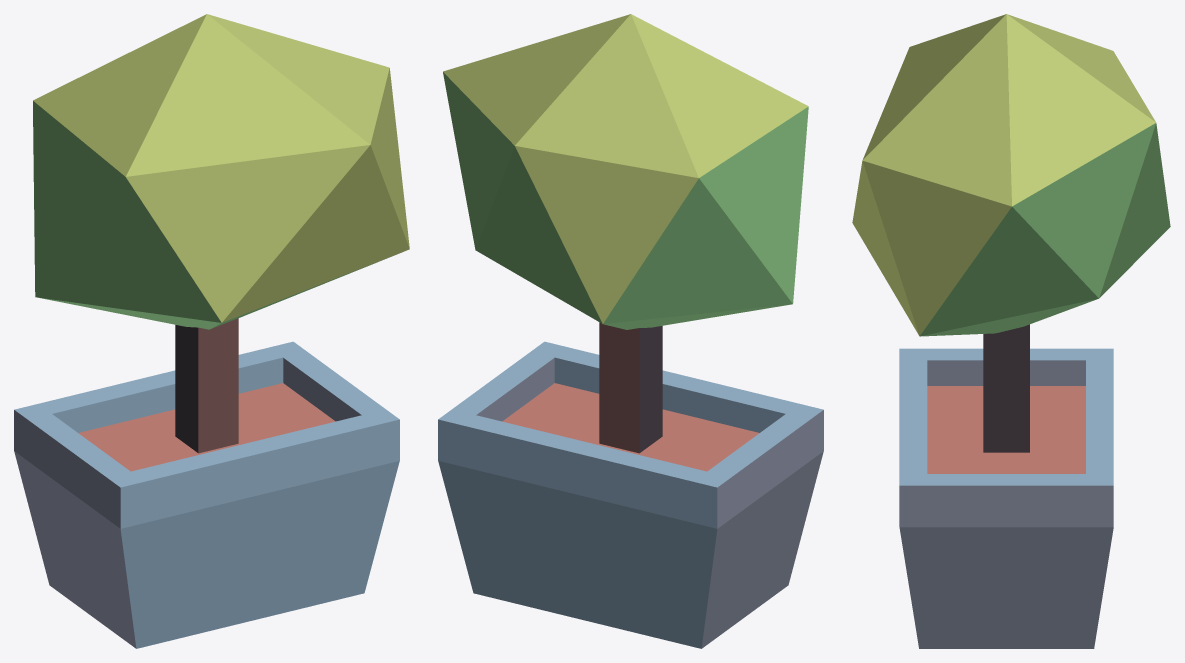
The model's file is Plant 01.fbx.
3 views of the same model, side by side, from view 1: azimuth 30°, elevation 25°; view 2: azimuth 150°, elevation 25°; view 3: azimuth 270°, elevation 25° (orthographic).
Visible parts, largest first — view 1: Plant 01; view 2: Plant 01; view 3: Plant 01.
Boxes of the visible parts, <box> form: Plant 01: <box>14,14,409,648</box>; Plant 01: <box>438,14,823,648</box>; Plant 01: <box>852,14,1170,648</box>.
Size of the model in its own units: 37.32 by 58.21 by 29.
